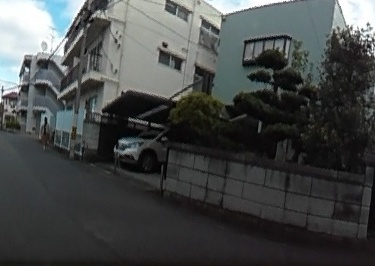person: (41, 114, 51, 148)
